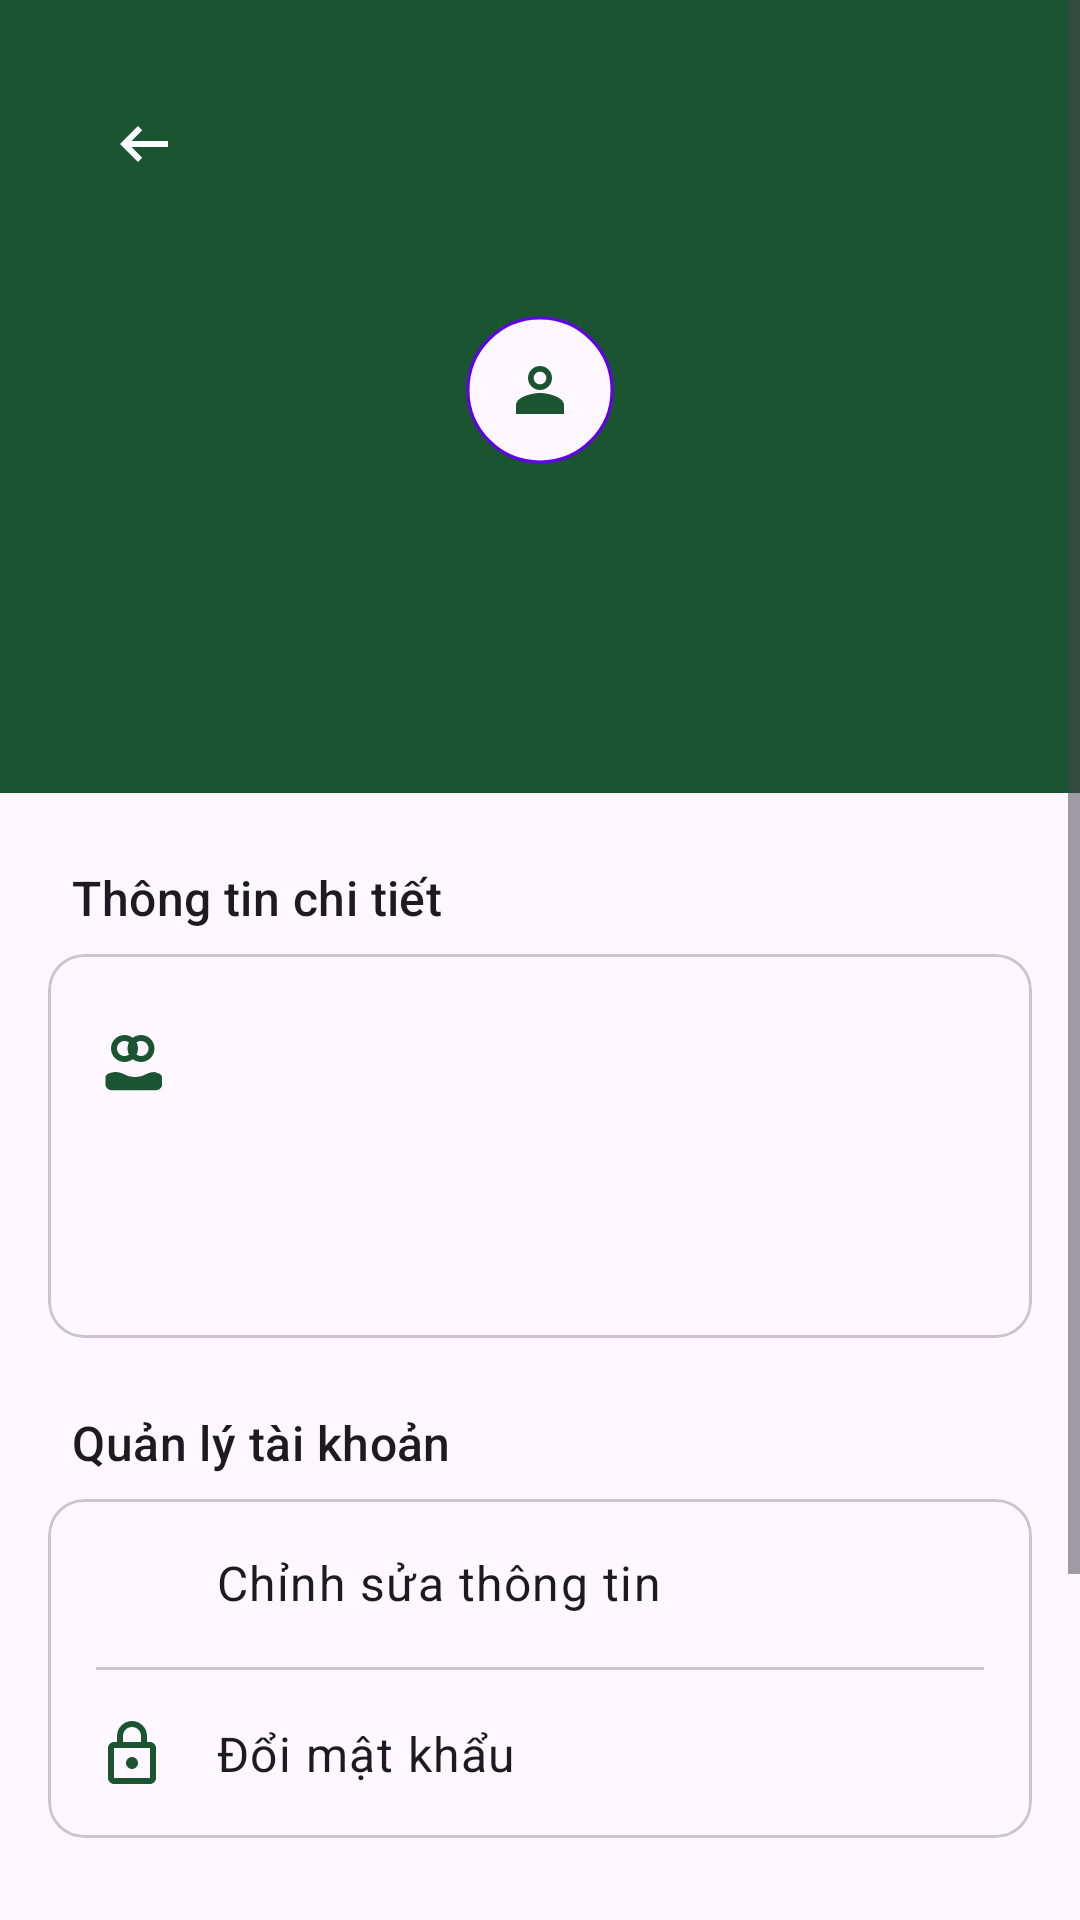

Screen size 1080 × 1920. Icon name, then its box in pixels as region(x1, y1, x2, y2):
lock: region(108, 1721, 156, 1784)
person: region(466, 316, 614, 464)
Quay lại: region(120, 126, 168, 162)
